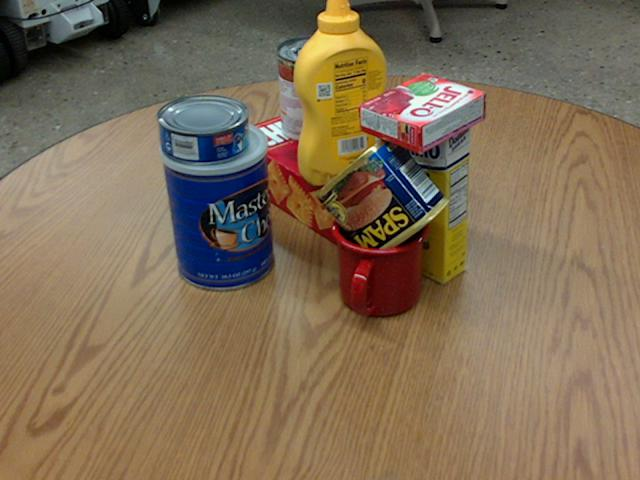cracker_box: (229, 95, 452, 251)
gelatin_box: (359, 73, 485, 152)
large_marker: (213, 116, 238, 218)
master_chef_can: (158, 117, 275, 289)
mug: (330, 202, 429, 318)
mustard_bottle: (294, 0, 389, 185)
potted_meat_can: (315, 133, 451, 264)
sugar_box: (373, 90, 471, 286)
tomato_soup_can: (275, 36, 336, 142)
tuna_fish_can: (156, 93, 248, 163)
